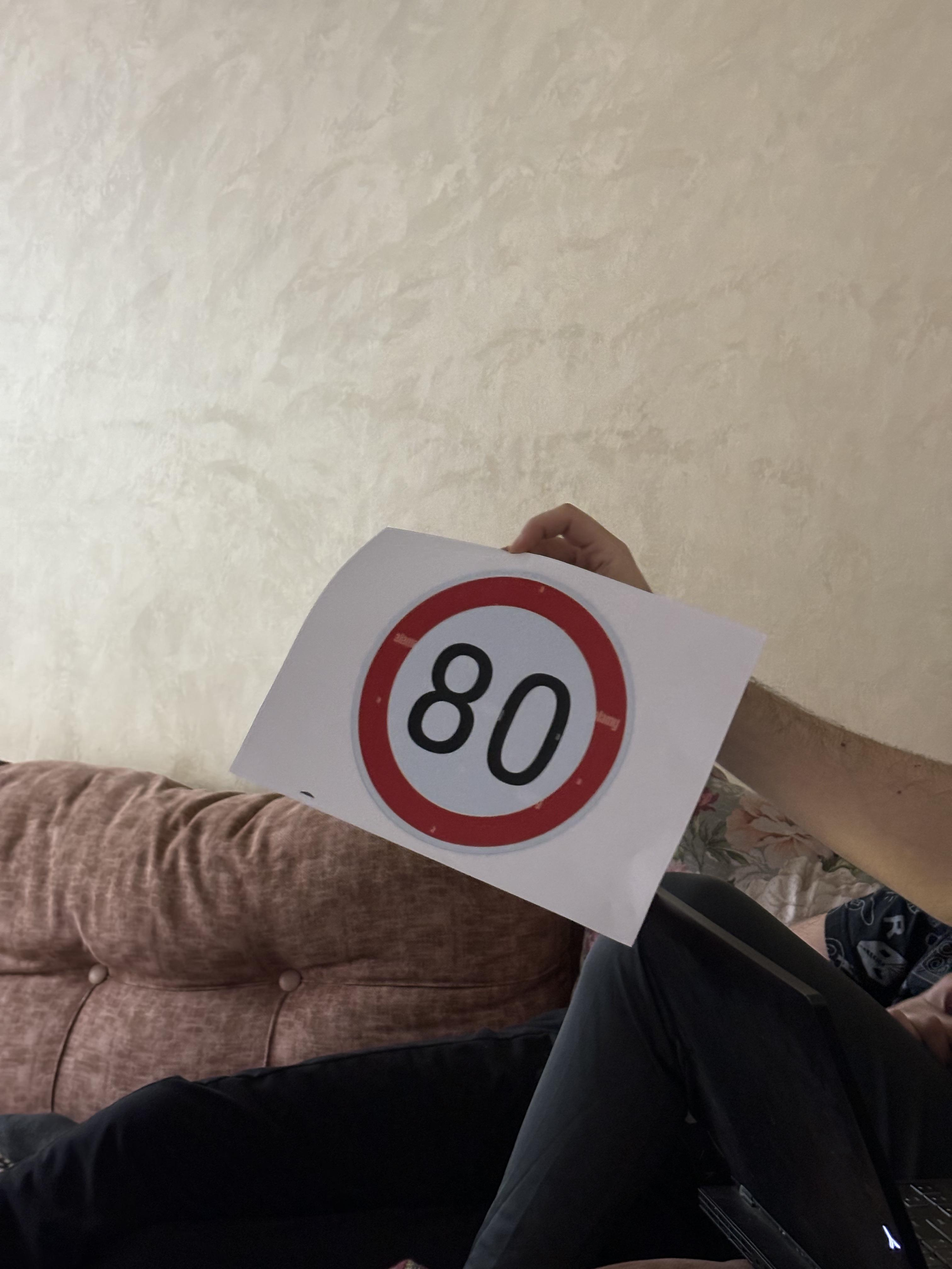80-Speed: (344, 561, 639, 855)
